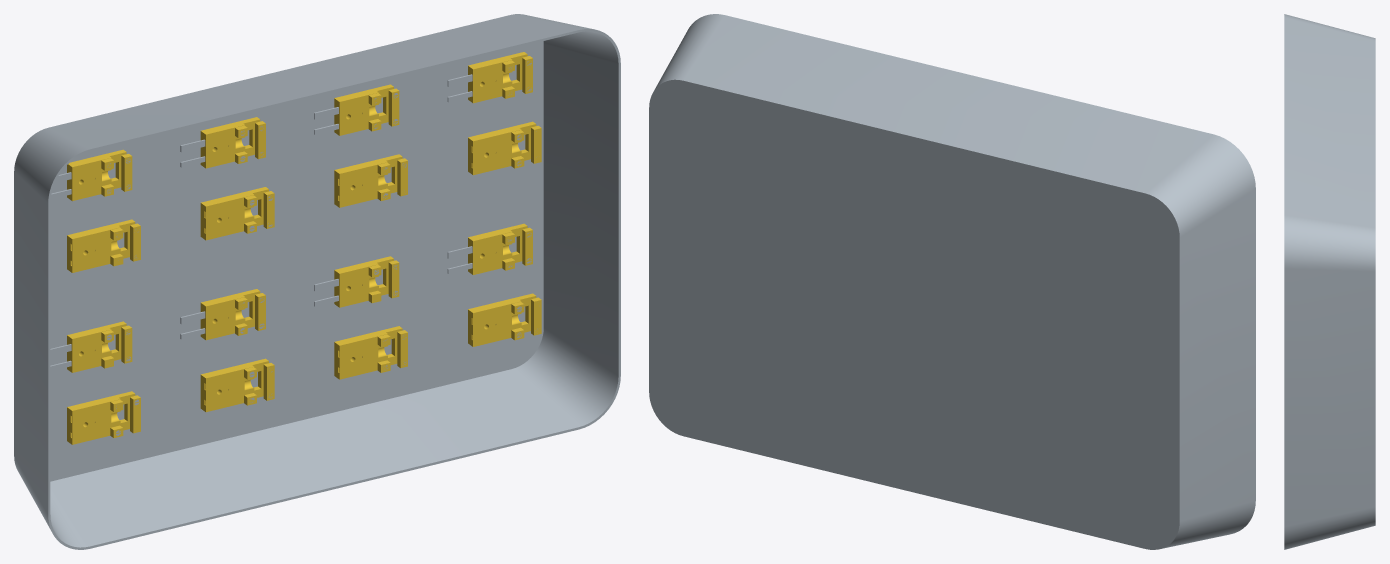
The model's file is supply_omega_smpw_cc_kit.glb.
3 renders of one model, left to right at view 1: azimuth 30°, elevation 25°; view 2: azimuth 150°, elevation 25°; view 3: azimuth 270°, elevation 25°, orthographic. The views are drawn at different scales.
Parts seen in each view (by area): view 1: ordinary_tray_formed_tray, channel_6_F_connector_body, channel_2_F_connector_body, channel_3_F_connector_body, channel_4_F_connector_body, channel_7_F_connector_body, channel_8_F_connector_body, channel_1_F_connector_body, channel_5_F_connector_body, channel_2_M_connector_body, channel_8_M_connector_body, channel_4_M_connector_body (+5 smaller); view 2: ordinary_tray_formed_tray; view 3: ordinary_tray_formed_tray.
Part boxes in pixels (x1,y1,x2,y2): ordinary_tray_formed_tray: (14,14,620,549); channel_6_F_connector_body: (200,191,254,240); channel_2_F_connector_body: (200,362,254,412); channel_3_F_connector_body: (334,330,387,379); channel_4_F_connector_body: (468,297,521,346); channel_7_F_connector_body: (334,158,387,207); channel_8_F_connector_body: (468,125,521,175); channel_1_F_connector_body: (67,395,120,444); channel_5_F_connector_body: (67,223,120,272); channel_2_M_connector_body: (200,293,245,340); channel_8_M_connector_body: (468,56,512,103); channel_4_M_connector_body: (468,228,512,274); ordinary_tray_formed_tray: (649,14,1255,549); ordinary_tray_formed_tray: (1284,14,1375,549).
Bounding box in the file's own units: 0.3 × 0.2 × 0.05.
Materials: 4 (1 with a texture image).
